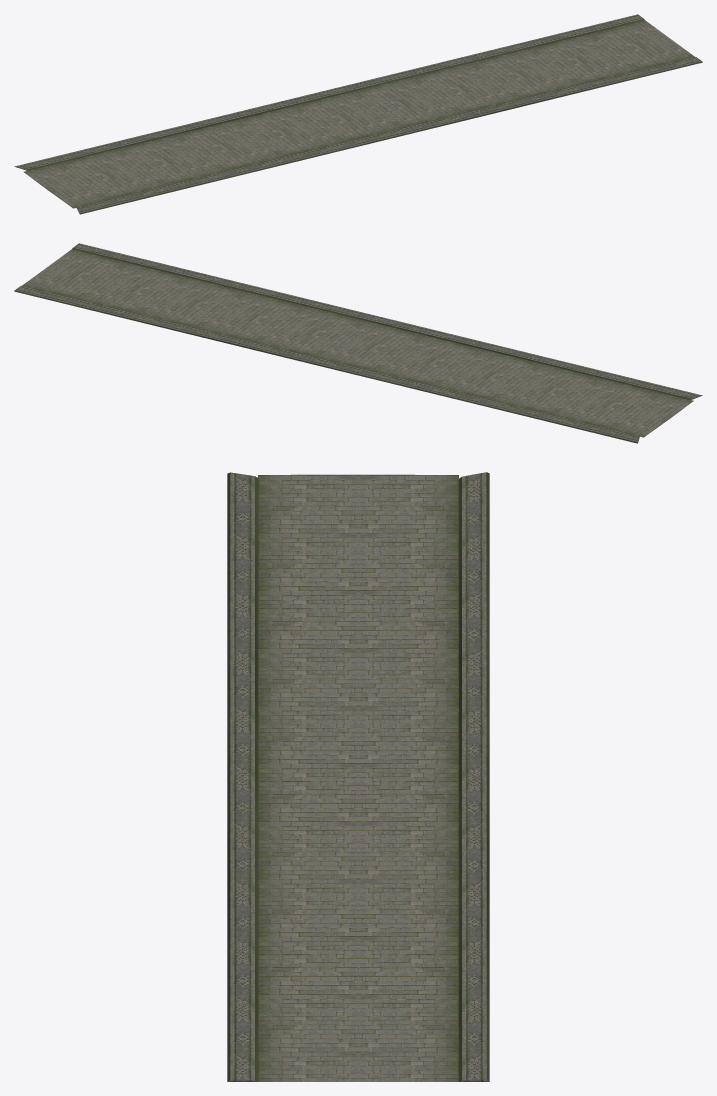
Rendered from zc_suzhou_dimian05.FBX.
The picture shows the model from 3 angles, top to bottom: view 1: azimuth 30°, elevation 25°; view 2: azimuth 150°, elevation 25°; view 3: azimuth 270°, elevation 25°; orthographic projection. The views are drawn at different scales.
Visible parts, largest first — view 1: zc_suzhou_dimian05; view 2: zc_suzhou_dimian05; view 3: zc_suzhou_dimian05.
Boxes of the visible parts, x1=… form: zc_suzhou_dimian05: x1=14, y1=14, x2=702, y2=214; zc_suzhou_dimian05: x1=14, y1=243, x2=702, y2=443; zc_suzhou_dimian05: x1=227, y1=472, x2=489, y2=1081.
Bounding box in the file's own units: 5289 × 5.4 × 965.
Materials: 1 (1 with a texture image).
